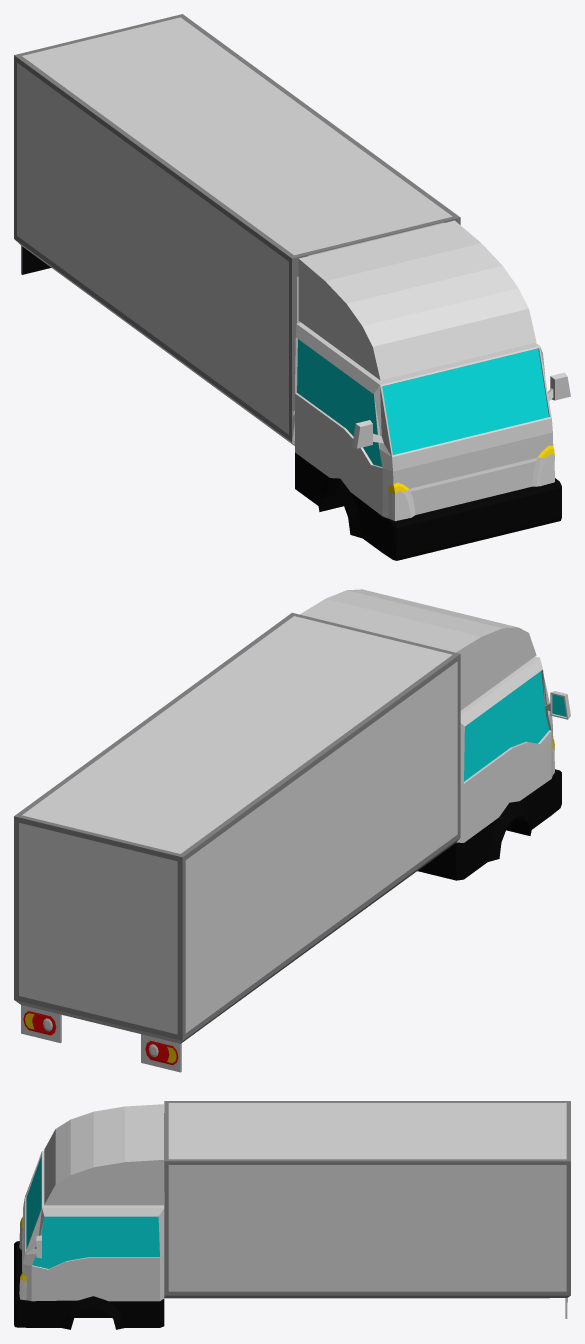
File: Big_Truck.fbx
The picture shows the model from 3 angles, top to bottom: view 1: azimuth 30°, elevation 25°; view 2: azimuth 150°, elevation 25°; view 3: azimuth 270°, elevation 25°; orthographic projection. The views are drawn at different scales.
Parts seen in each view (by area): view 1: Plane; view 2: Plane; view 3: Plane.
Boxes of the visible parts, left/top/right/bottom form: Plane: left=14, top=14, right=570, bottom=560; Plane: left=14, top=589, right=570, bottom=1072; Plane: left=14, top=1101, right=570, bottom=1329.
Size of the model in its own units: 216 by 218 by 661.
